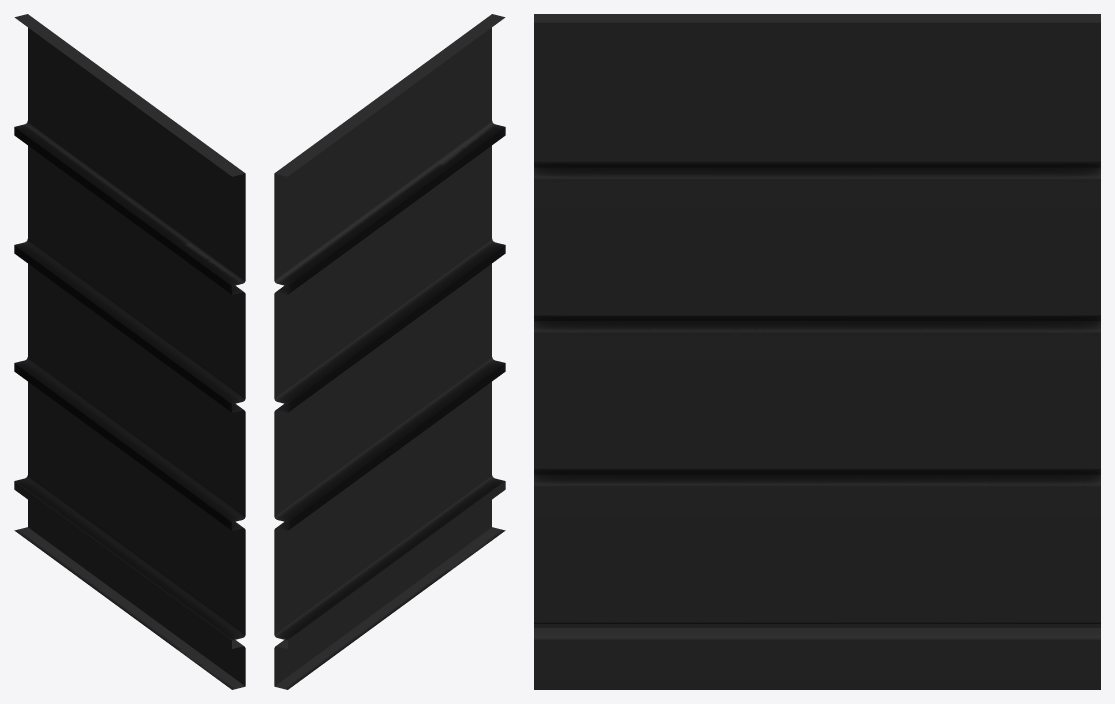
File: VAL_4U_SW.fbx
3 renders of one model, left to right at view 1: azimuth 30°, elevation 25°; view 2: azimuth 150°, elevation 25°; view 3: azimuth 270°, elevation 25°, orthographic. The views are drawn at different scales.
Parts seen in each view (by area): view 1: VAL_4U_SW; view 2: VAL_4U_SW; view 3: VAL_4U_SW.
Part boxes in pixels (box(x1,y1,x2,y2)): VAL_4U_SW: box(14, 14, 245, 689); VAL_4U_SW: box(274, 14, 505, 689); VAL_4U_SW: box(534, 14, 1100, 689).
Size of the model in its own units: 0.125 by 4.5 by 3.46.
